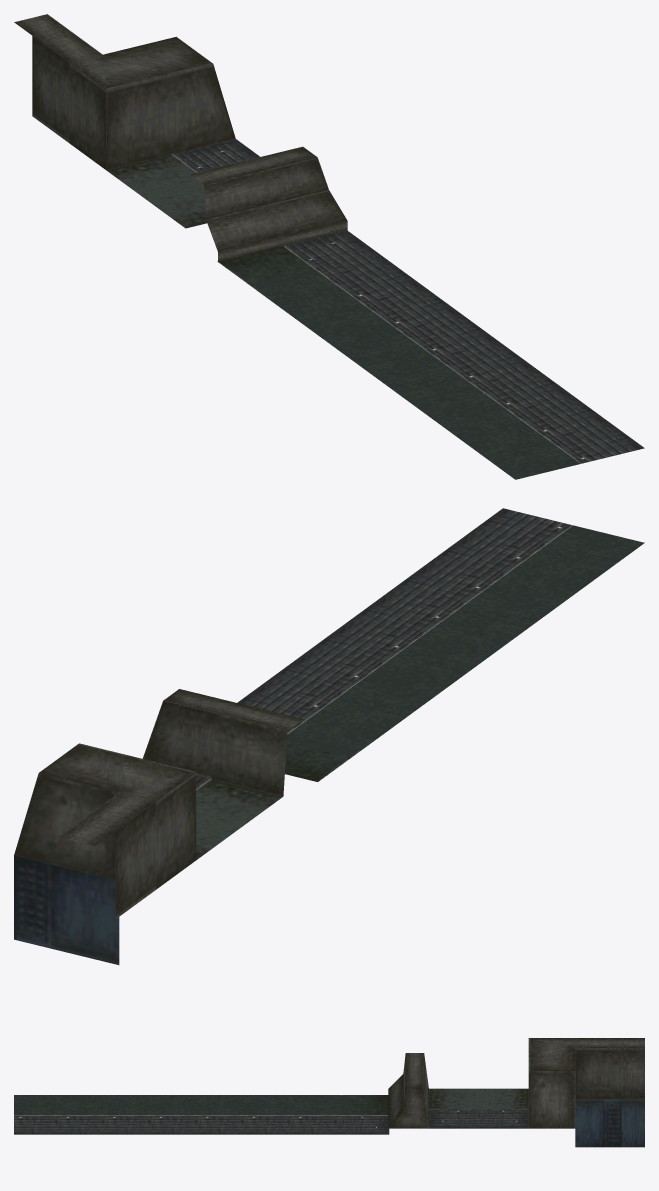
The model's file is THR05FE.glb.
3 renders of one model, top to bottom at view 1: azimuth 30°, elevation 25°; view 2: azimuth 150°, elevation 25°; view 3: azimuth 270°, elevation 25°, orthographic. The views are drawn at different scales.
Visible parts, largest first — view 1: C202_1_N_m0, THRC201_m0; view 2: C202_1_N_m0, THRC201_m0; view 3: C202_1_N_m0, THRC201_m0.
Boxes of the visible parts, x1,y1,x2,y2 form: C202_1_N_m0: (14,14,347,261); THRC201_m0: (217,230,644,479); C202_1_N_m0: (14,689,303,964); THRC201_m0: (237,508,644,781); C202_1_N_m0: (388,1038,644,1147); THRC201_m0: (14,1095,389,1134).
Bounding box in the file's own units: 2.02 × 2.35 × 13.57.
5 materials, 5 textured.
